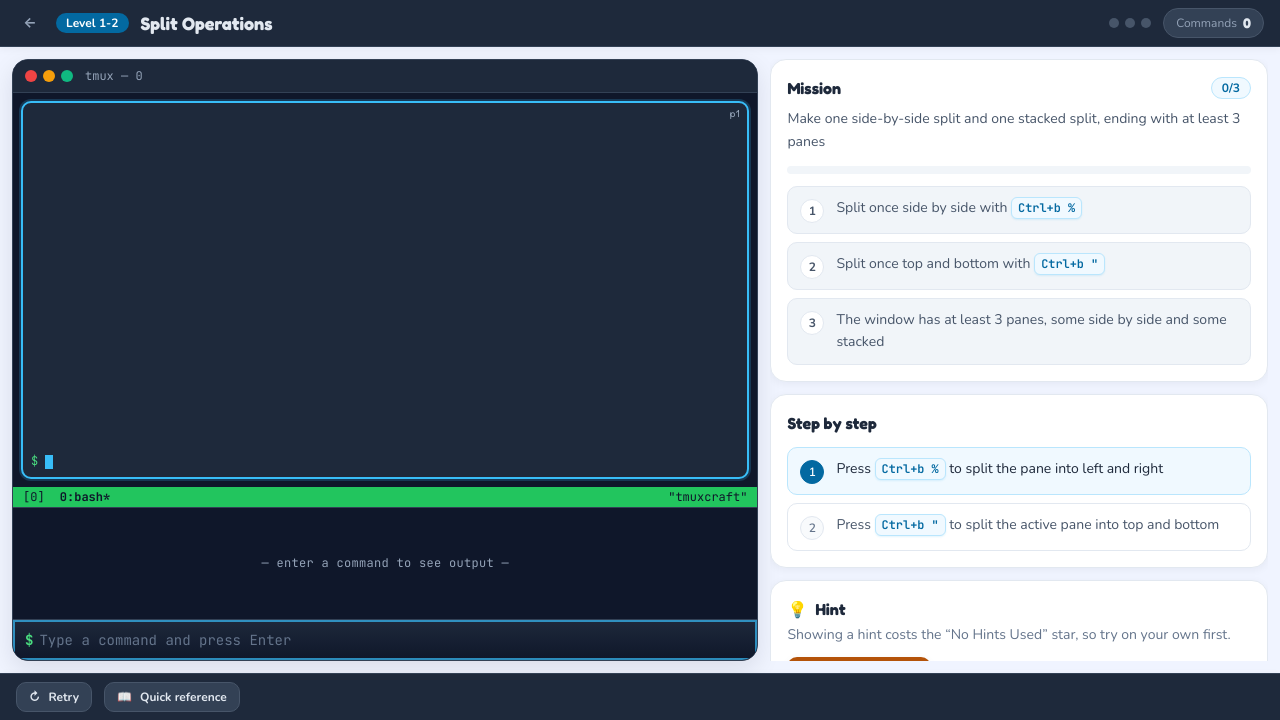
Test: GameScreen › starts the level over on retry
In the field labelled "command": (392, 640) [39,630,745,650], type ":split-window"
Then press Enter
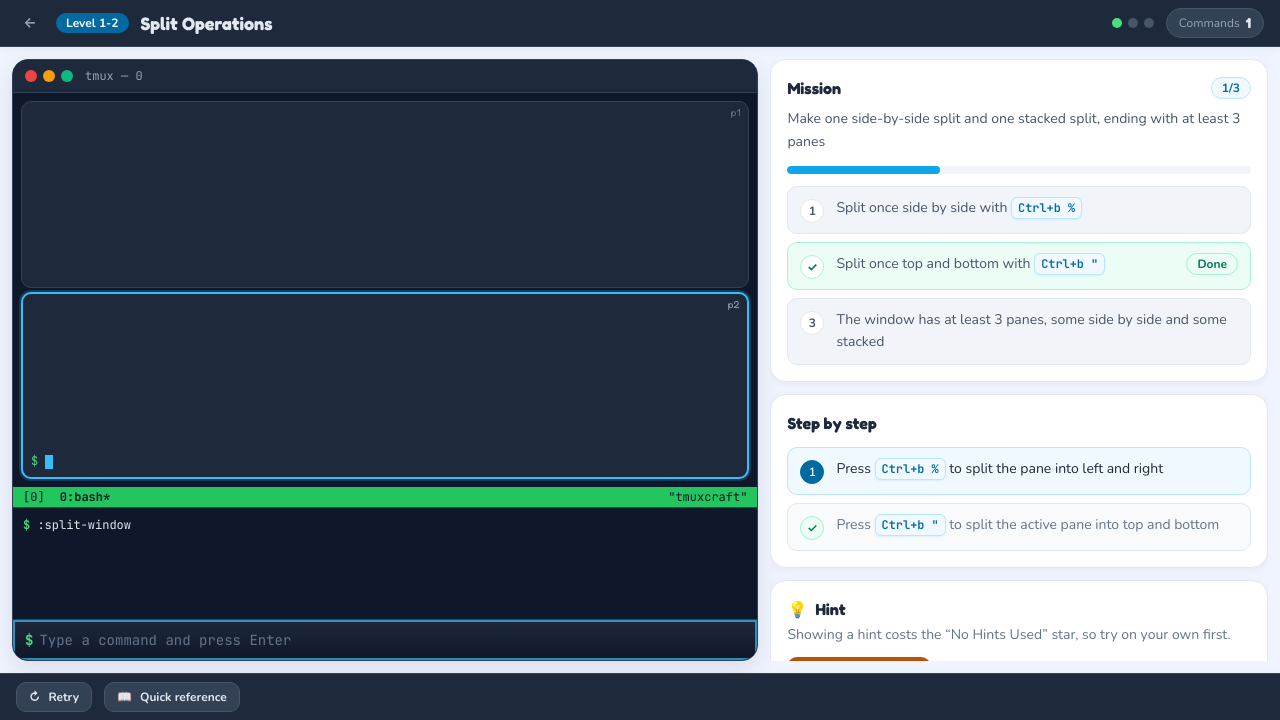
Click the button "↻ Retry": (54, 697) [16,682,92,712]
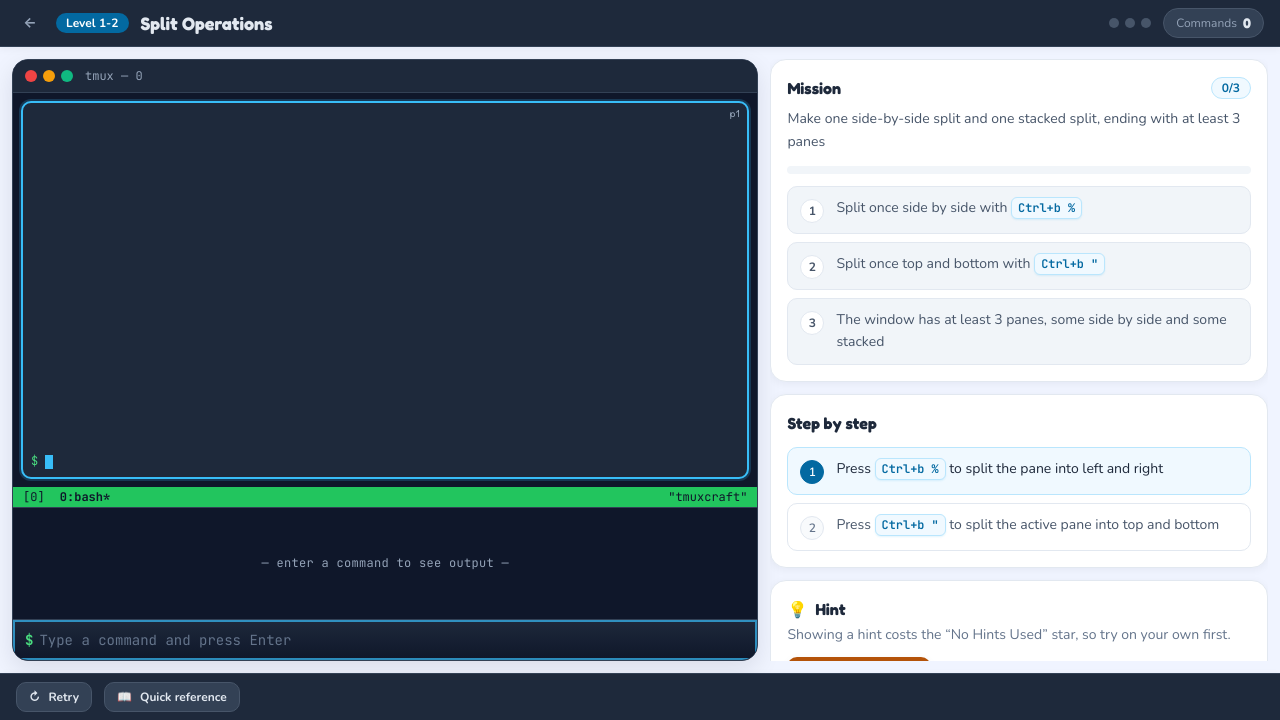
expect the text ":split-window" is gone: met
